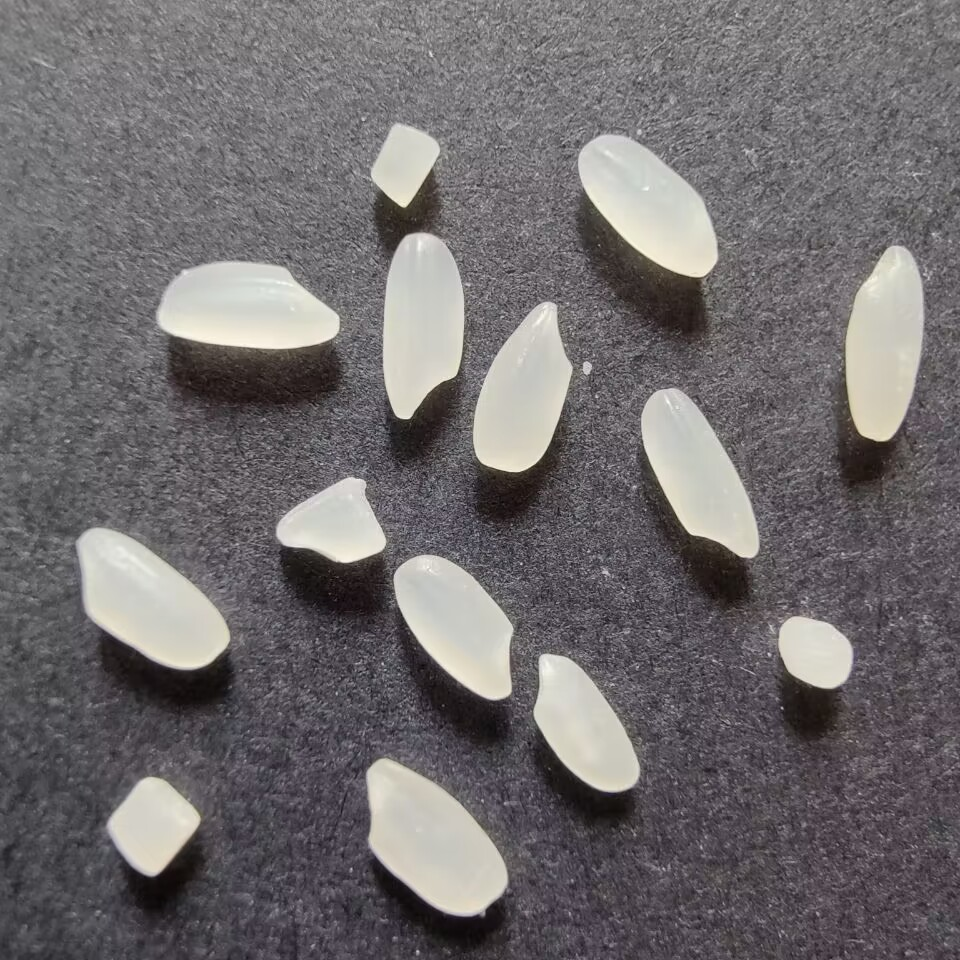broken: (270, 468, 390, 568), (101, 774, 205, 879), (773, 608, 858, 696), (368, 117, 444, 212)
rice: (352, 752, 515, 927), (68, 521, 236, 675), (572, 129, 725, 284), (636, 383, 765, 562), (388, 551, 522, 702), (470, 294, 579, 479), (146, 255, 345, 351), (843, 238, 931, 446), (378, 228, 469, 426), (527, 647, 645, 798)
